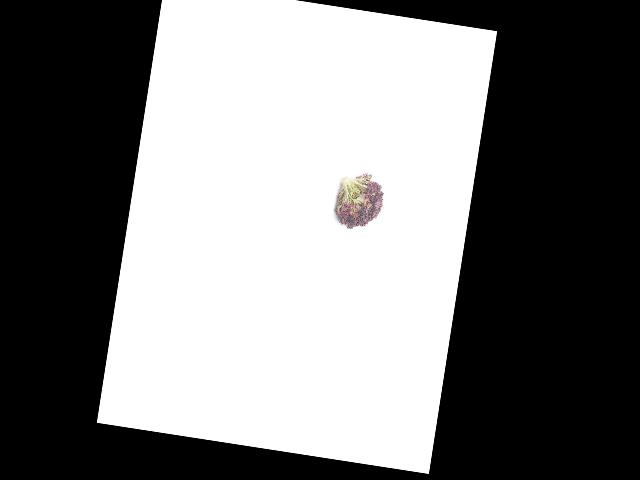lettuce: (328, 171, 388, 235)
